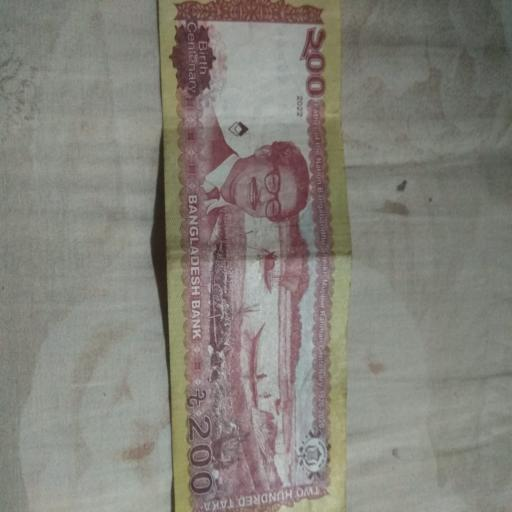200taka: (162, 0, 353, 512)
